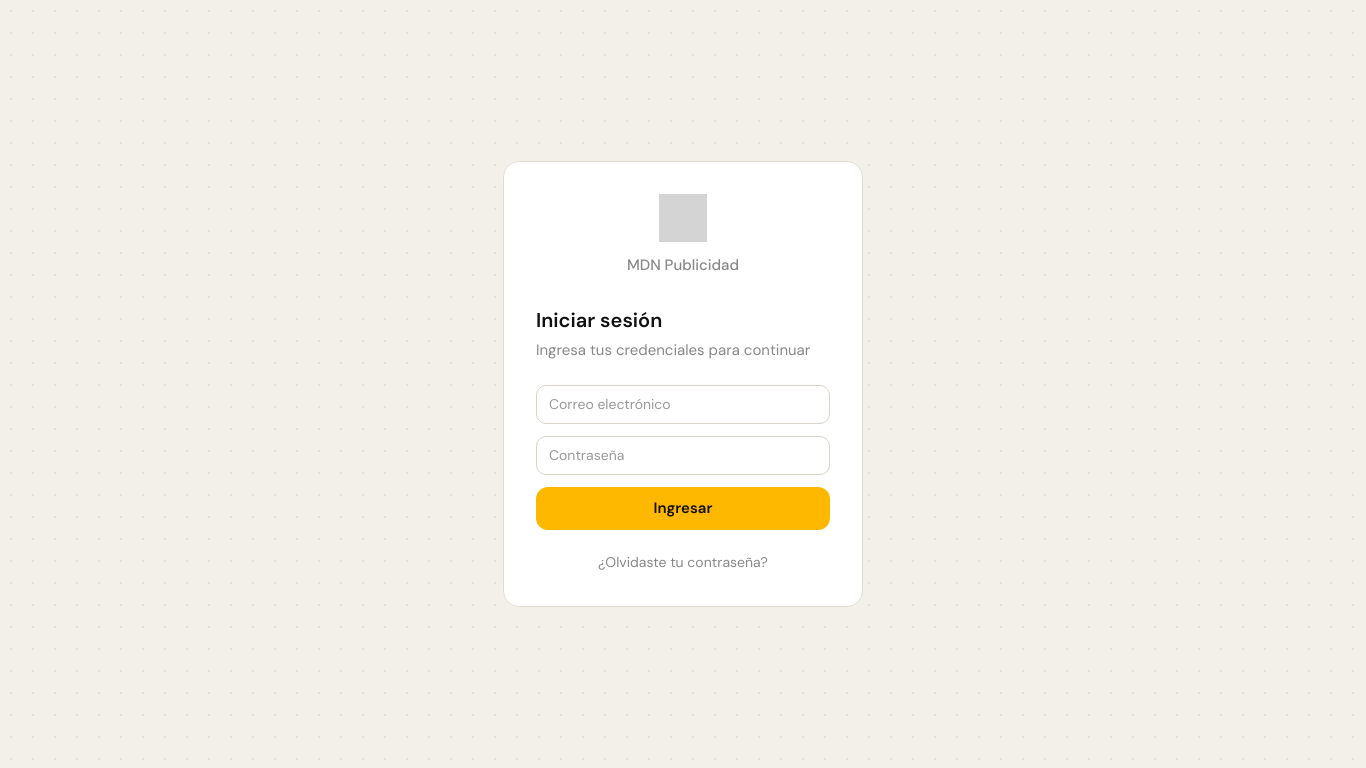
LoginPage › muestra error cuando las credenciales son incorrectas
Step 1. Type "test@example.com" into the field with placeholder "Correo electrónico" → point(683, 405), box [536,385,830,424]
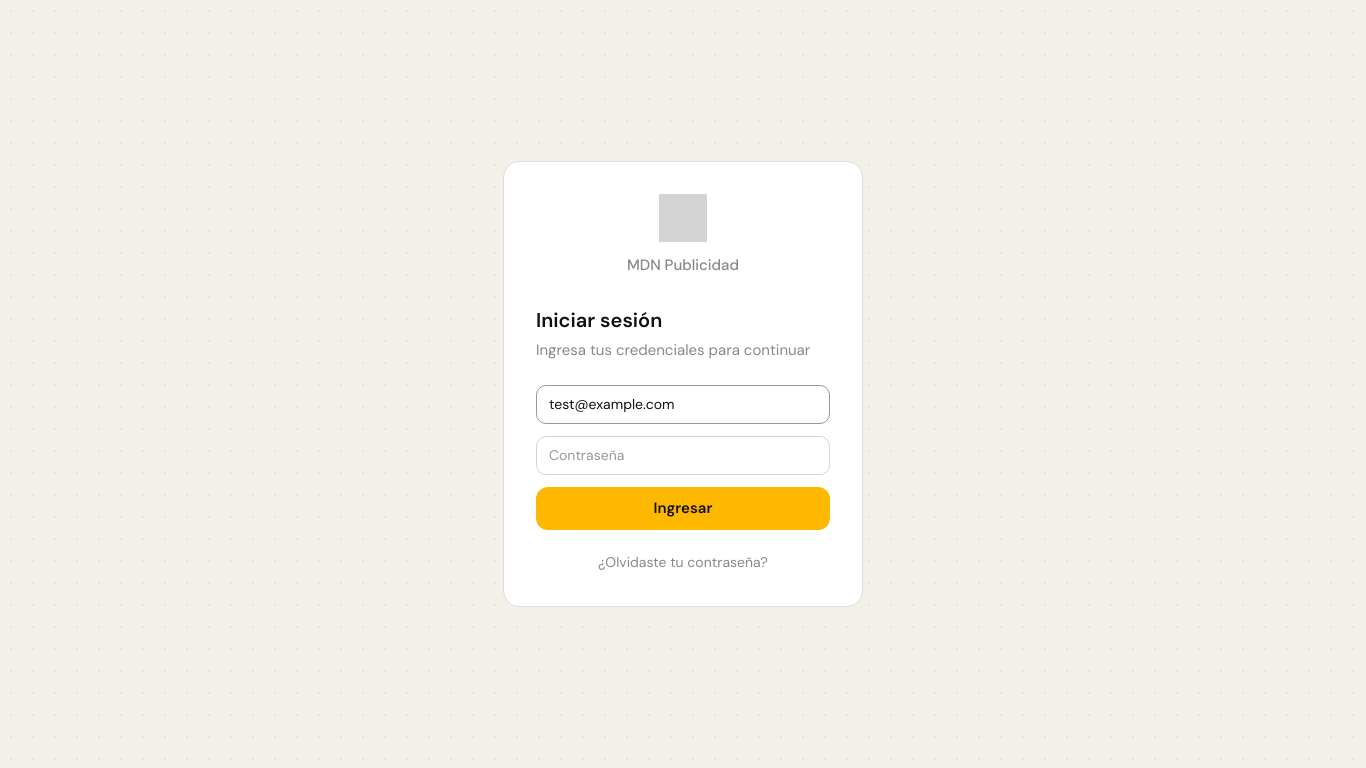
Step 2. Type "wrongpass" into the password field with placeholder "Contraseña" → point(683, 456), box [536,436,830,475]
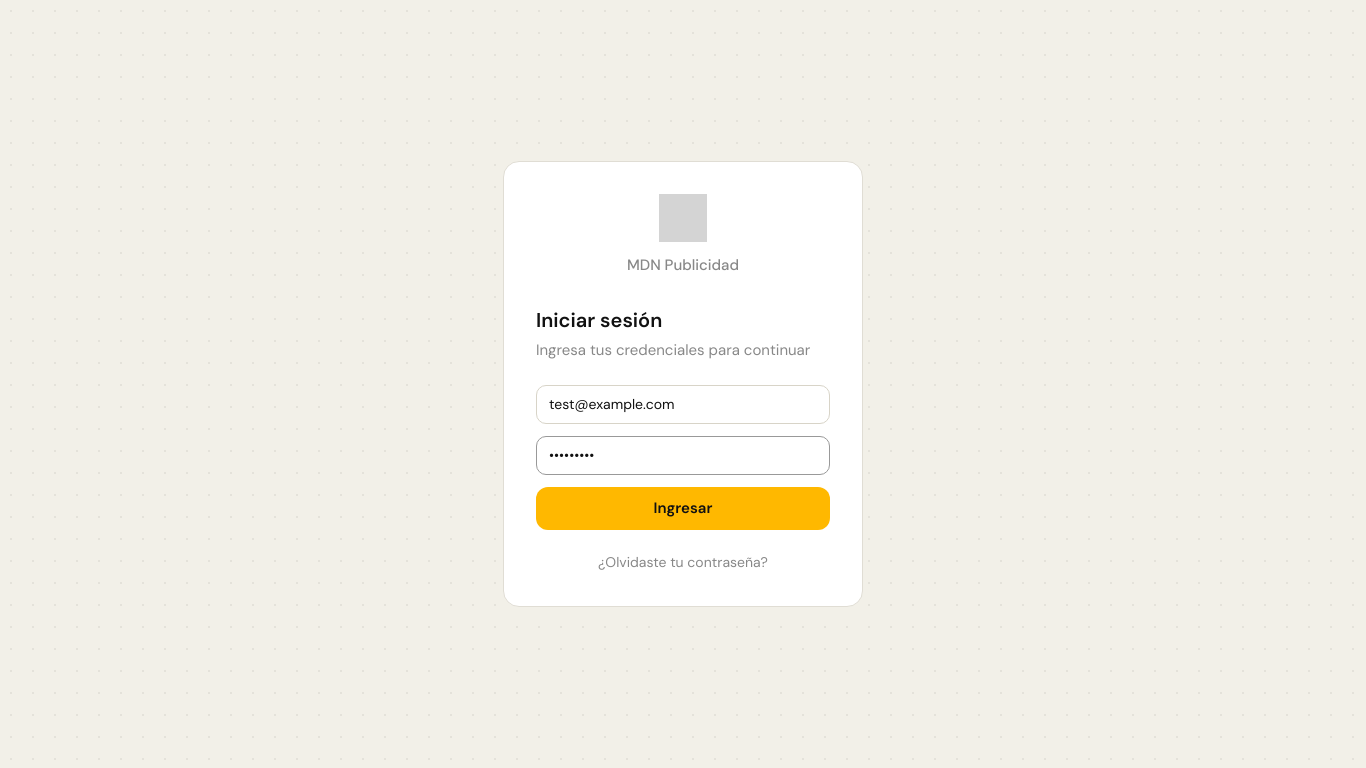
Step 3. Click the button "Ingresar" → point(683, 509), box [536,487,830,530]
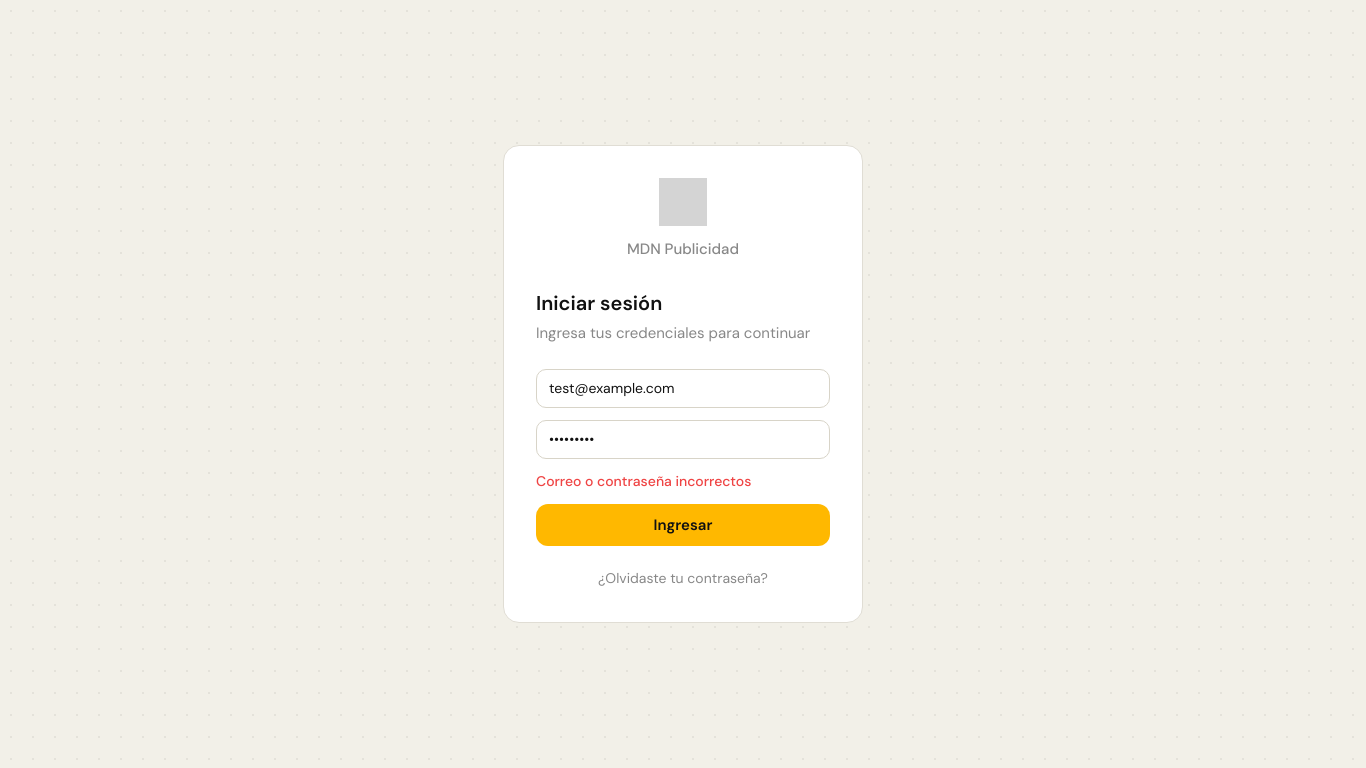
expect the text "Correo o contraseña incorrectos" is shown: met, box [536,472,751,490]
